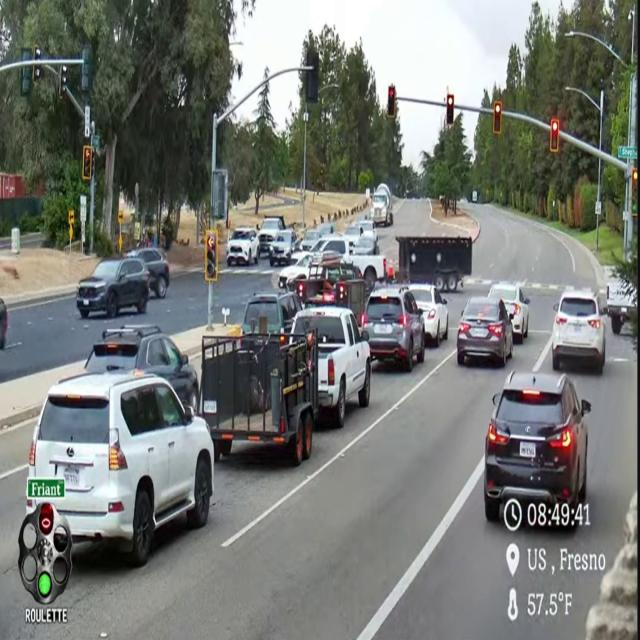car: (28, 373, 213, 566), (484, 372, 590, 521), (85, 325, 198, 413), (360, 287, 424, 371), (77, 257, 150, 318), (552, 291, 606, 373), (457, 297, 513, 367), (242, 291, 302, 335), (409, 284, 448, 346), (489, 283, 529, 343), (127, 248, 169, 298), (227, 227, 259, 266), (278, 253, 312, 288), (269, 230, 297, 266), (344, 221, 377, 241), (352, 236, 379, 255), (300, 229, 320, 251), (0, 299, 8, 349), (358, 221, 377, 241), (316, 223, 336, 238)
traffic signal: (306, 49, 319, 103), (205, 230, 217, 281), (39, 503, 54, 536), (81, 45, 91, 93), (82, 145, 94, 181), (21, 66, 32, 95), (550, 118, 559, 152), (387, 85, 396, 119), (493, 101, 502, 135), (59, 65, 67, 99), (446, 94, 454, 126), (32, 65, 41, 81), (632, 168, 637, 188)
truck: (200, 332, 318, 466), (293, 307, 370, 428), (288, 253, 371, 318), (396, 237, 472, 291), (313, 236, 386, 288), (298, 280, 368, 319), (606, 279, 636, 334), (259, 216, 285, 256), (371, 184, 393, 226), (472, 191, 477, 203)
